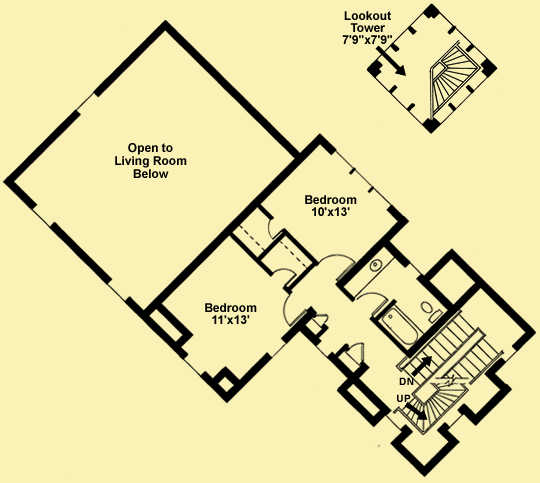door: (314, 249, 355, 278), (281, 291, 305, 330), (355, 287, 387, 315), (271, 264, 299, 292), (263, 216, 284, 241)
large_sink: (419, 300, 443, 324)
stairs: (400, 313, 500, 436), (425, 41, 483, 120)
